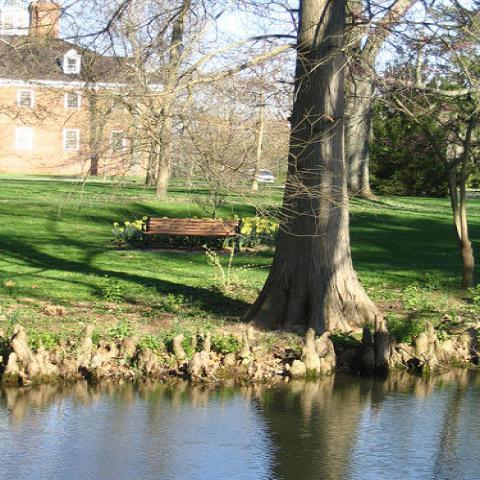car: (240, 169, 275, 184)
